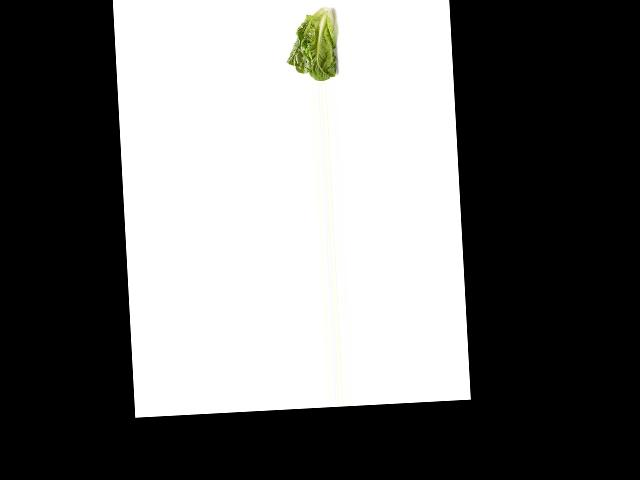lettuce: (283, 2, 349, 83)
